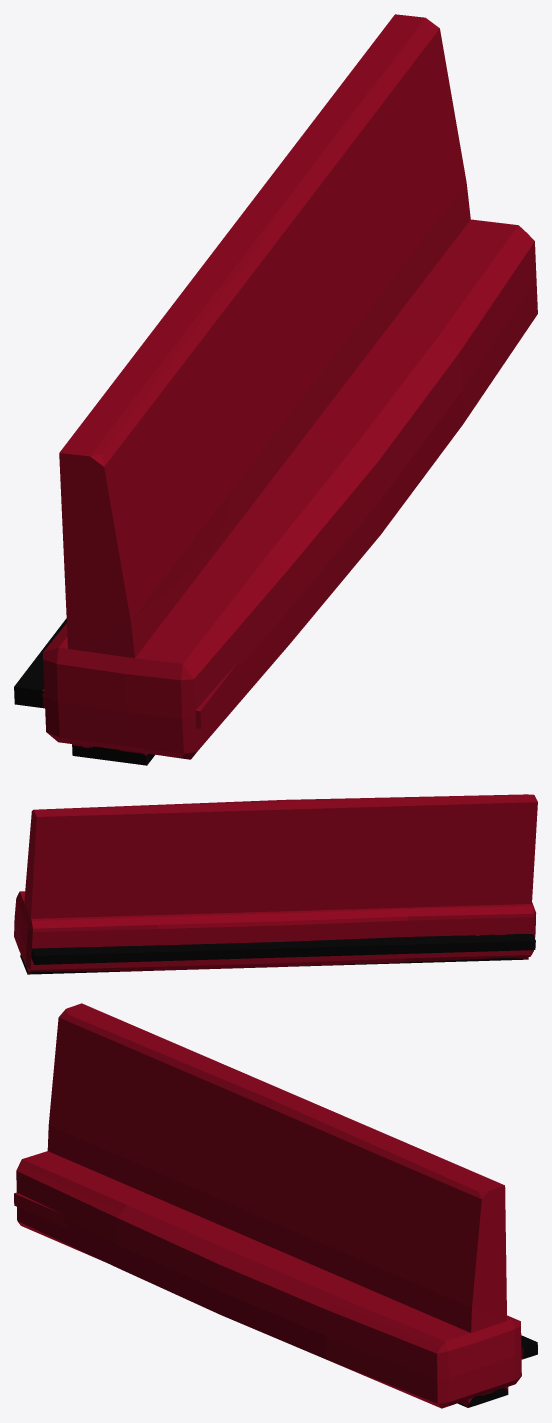
The model's file is couch.fbx.
3 renders of one model, top to bottom at view 1: azimuth 30°, elevation 25°; view 2: azimuth 150°, elevation 25°; view 3: azimuth 270°, elevation 25°, orthographic. The views are drawn at different scales.
Parts seen in each view (by area): view 1: node_id9, node_id6, node_id11; view 2: node_id9, node_id6, node_id11; view 3: node_id9, node_id6, node_id11.
Boxes of the visible parts, x1,y1,x2,y2 form: node_id9: (59,14,470,765); node_id6: (42,219,537,759); node_id11: (14,618,243,728); node_id9: (20,794,537,974); node_id6: (14,891,536,971); node_id11: (31,933,535,964); node_id9: (47,1003,508,1407); node_id6: (16,1151,521,1408); node_id11: (14,1192,537,1359).
Size of the model in its own units: 0.4724 by 0.2082 by 0.4213.
Materials: 3 (3 with a texture image).
